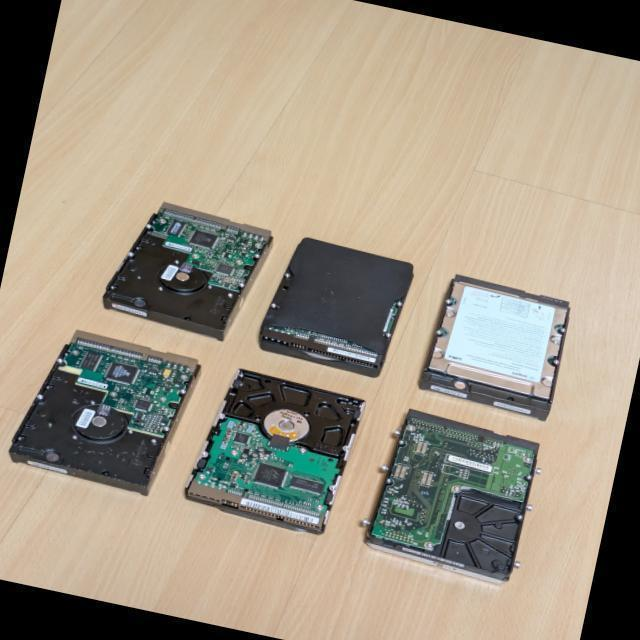DISK: (4, 320, 205, 502), (181, 362, 368, 540), (362, 404, 542, 587), (98, 193, 278, 348), (254, 231, 416, 382), (417, 270, 574, 422)
